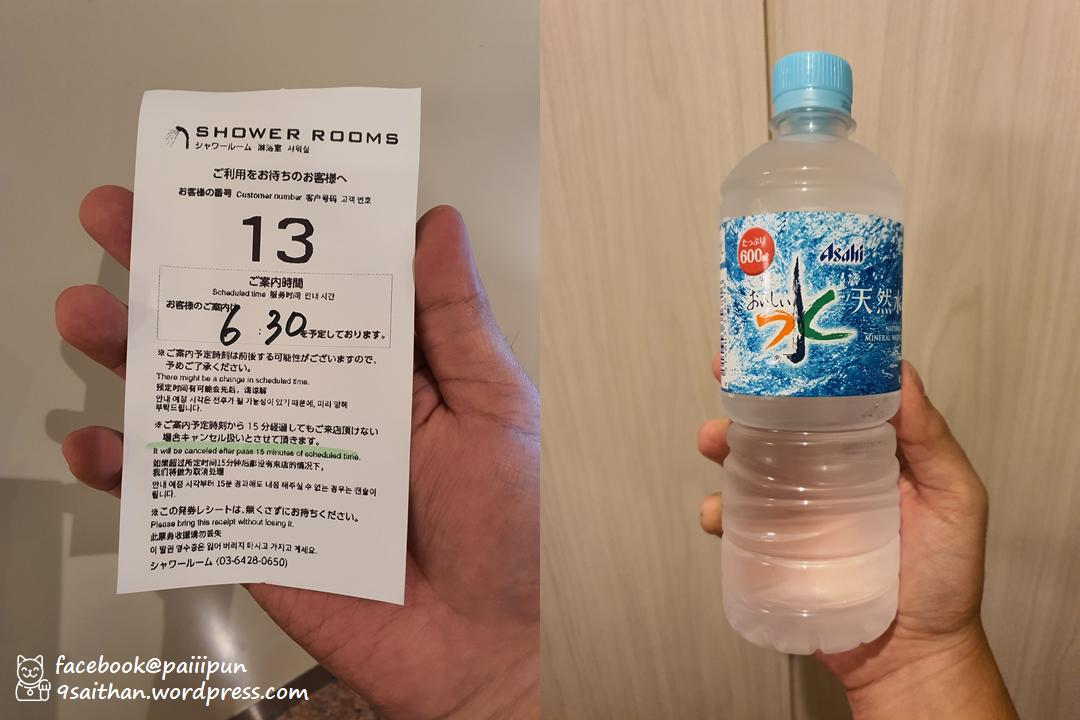plastic_bottle: (695, 50, 911, 665)
